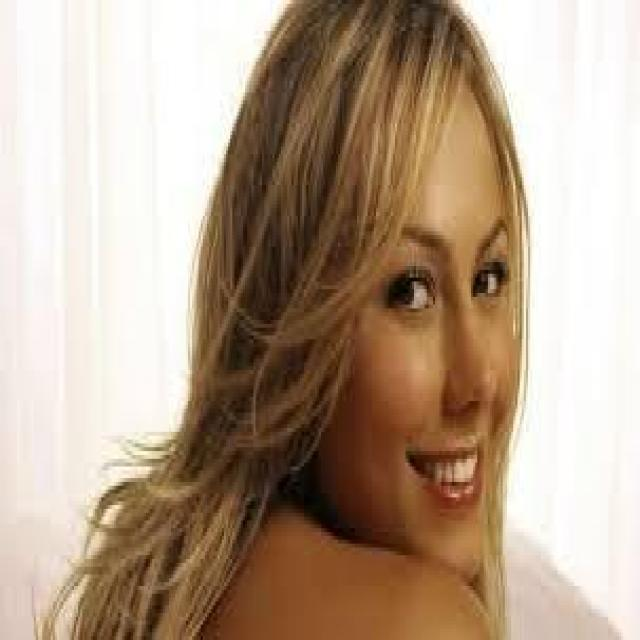person: (144, 0, 513, 636)
